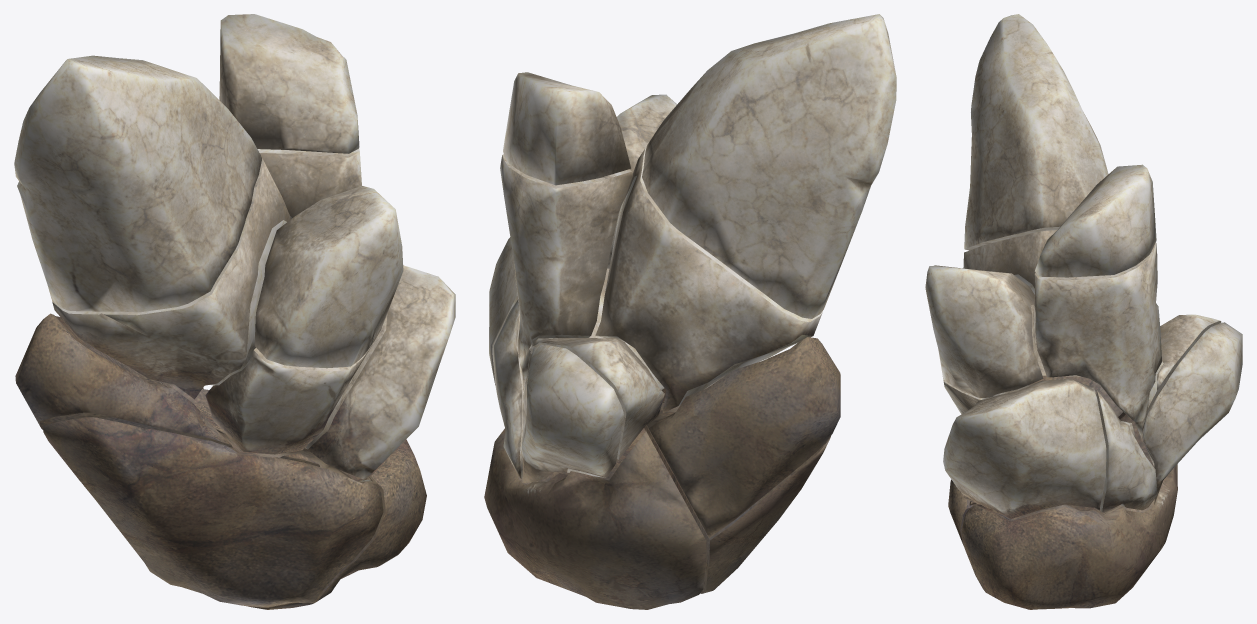
File: SM_Stone6_Pieces.fbx
3 views of the same model, side by side, from view 1: azimuth 30°, elevation 25°; view 2: azimuth 150°, elevation 25°; view 3: azimuth 270°, elevation 25° (orthographic). The views are drawn at different scales.
Visible parts, largest first — view 1: SM_Stone6_Pieces_1, SM_Stone6_Pieces_4, SM_Stone6_Pieces_9, SM_Stone6_Pieces_3, SM_Stone6_Pieces_10, SM_Stone6_Pieces_14, SM_Stone6_Pieces_2, SM_Stone6_Pieces_6, SM_Stone6_Pieces_8, SM_Stone6_Pieces_11; view 2: SM_Stone6_Pieces_1, SM_Stone6_Pieces_8, SM_Stone6_Pieces_3, SM_Stone6_Pieces_2, SM_Stone6_Pieces_11, SM_Stone6_Pieces_7, SM_Stone6_Pieces_10, SM_Stone6_Pieces_4, SM_Stone6_Pieces_5, SM_Stone6_Pieces_13, SM_Stone6_Pieces_14, SM_Stone6_Pieces_9; view 3: SM_Stone6_Pieces_1, SM_Stone6_Pieces_8, SM_Stone6_Pieces_14, SM_Stone6_Pieces_11, SM_Stone6_Pieces_9, SM_Stone6_Pieces_10, SM_Stone6_Pieces_7, SM_Stone6_Pieces_13, SM_Stone6_Pieces_3, SM_Stone6_Pieces_5, SM_Stone6_Pieces_4, SM_Stone6_Pieces_6 (+1 smaller).
Boxes of the visible parts, x1,y1,x2,y2 form: SM_Stone6_Pieces_1: [14, 55, 261, 312]; SM_Stone6_Pieces_4: [43, 417, 383, 607]; SM_Stone6_Pieces_9: [254, 186, 403, 368]; SM_Stone6_Pieces_3: [52, 158, 290, 399]; SM_Stone6_Pieces_10: [219, 14, 359, 153]; SM_Stone6_Pieces_14: [305, 265, 455, 479]; SM_Stone6_Pieces_2: [15, 313, 351, 478]; SM_Stone6_Pieces_6: [205, 343, 373, 454]; SM_Stone6_Pieces_8: [167, 383, 426, 609]; SM_Stone6_Pieces_11: [257, 148, 361, 218]; SM_Stone6_Pieces_1: [642, 14, 896, 318]; SM_Stone6_Pieces_8: [484, 428, 706, 609]; SM_Stone6_Pieces_3: [595, 146, 822, 412]; SM_Stone6_Pieces_2: [646, 337, 840, 537]; SM_Stone6_Pieces_11: [500, 154, 632, 391]; SM_Stone6_Pieces_7: [522, 344, 623, 482]; SM_Stone6_Pieces_10: [503, 72, 630, 185]; SM_Stone6_Pieces_4: [644, 386, 830, 593]; SM_Stone6_Pieces_5: [529, 338, 664, 459]; SM_Stone6_Pieces_13: [492, 299, 523, 478]; SM_Stone6_Pieces_14: [489, 237, 664, 389]; SM_Stone6_Pieces_9: [607, 94, 676, 268]; SM_Stone6_Pieces_1: [964, 14, 1108, 250]; SM_Stone6_Pieces_8: [961, 414, 1177, 609]; SM_Stone6_Pieces_14: [943, 378, 1106, 518]; SM_Stone6_Pieces_11: [1034, 243, 1161, 439]; SM_Stone6_Pieces_9: [925, 265, 1043, 398]; SM_Stone6_Pieces_10: [1035, 164, 1156, 277]; SM_Stone6_Pieces_7: [1143, 322, 1242, 504]; SM_Stone6_Pieces_13: [1096, 390, 1157, 512]; SM_Stone6_Pieces_3: [963, 230, 1080, 376]; SM_Stone6_Pieces_5: [1146, 314, 1221, 417]; SM_Stone6_Pieces_4: [948, 479, 980, 546]; SM_Stone6_Pieces_6: [942, 374, 1027, 414].
Bounding box in the file's own units: 1.26 × 1.81 × 1.04.
